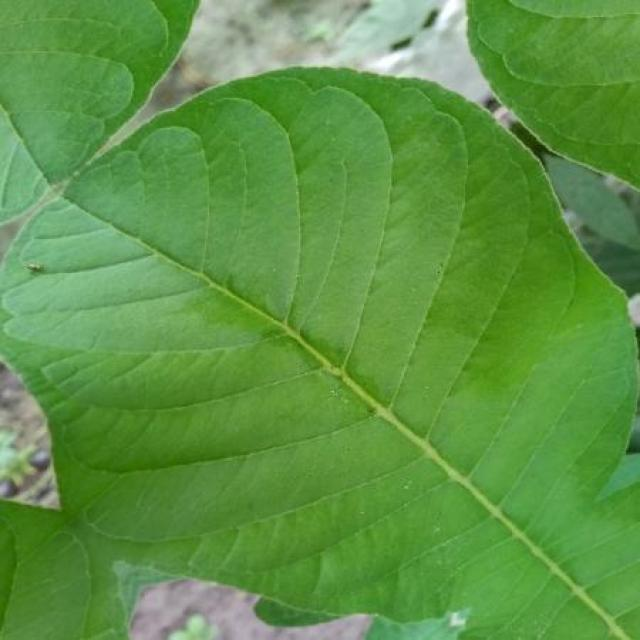Disease Free: (0, 69, 640, 640), (0, 0, 197, 221), (0, 501, 164, 639)
